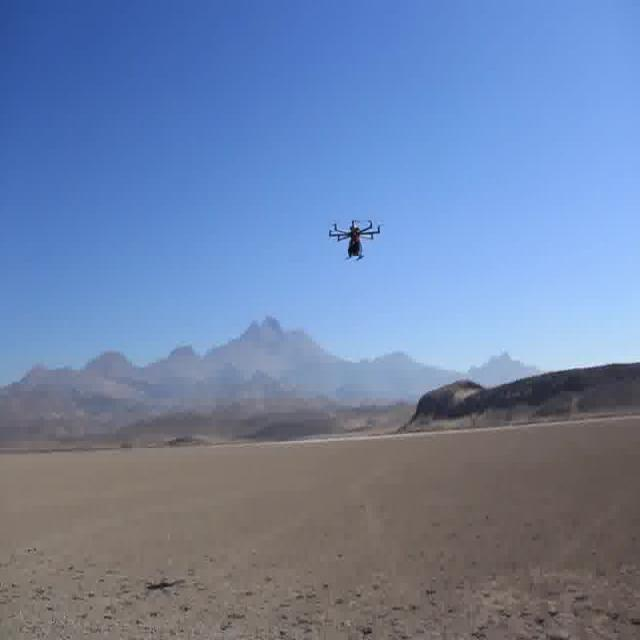drone: (328, 208, 386, 274)
